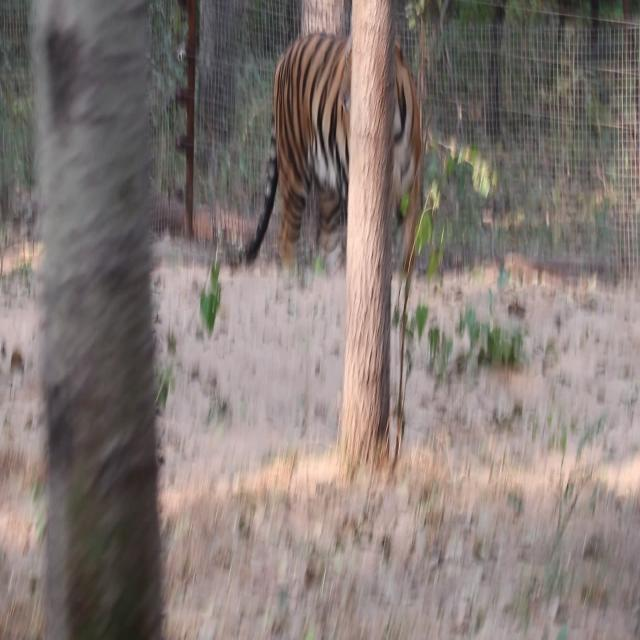Tiger: (242, 24, 430, 299)
